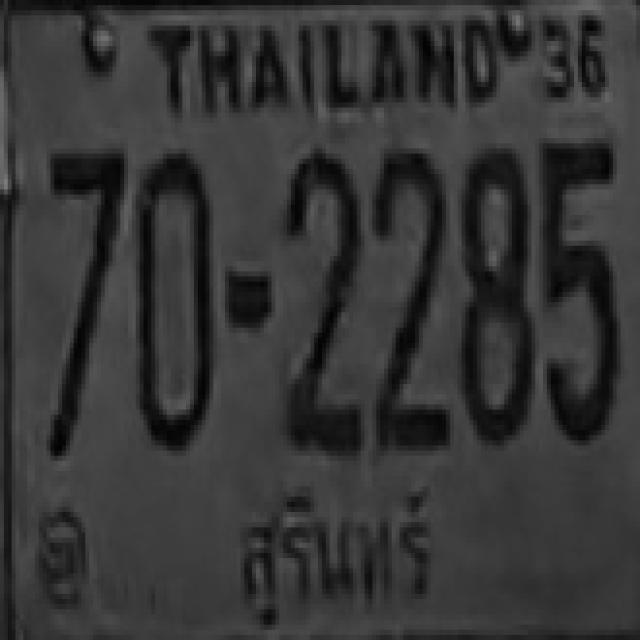0: (136, 148, 213, 450)
2: (277, 151, 359, 407), (371, 146, 444, 407), (374, 228, 448, 448)
5: (539, 138, 617, 440), (539, 136, 613, 310)
7: (47, 146, 124, 433)
8: (458, 144, 531, 440)
Surin: (227, 471, 453, 640)
